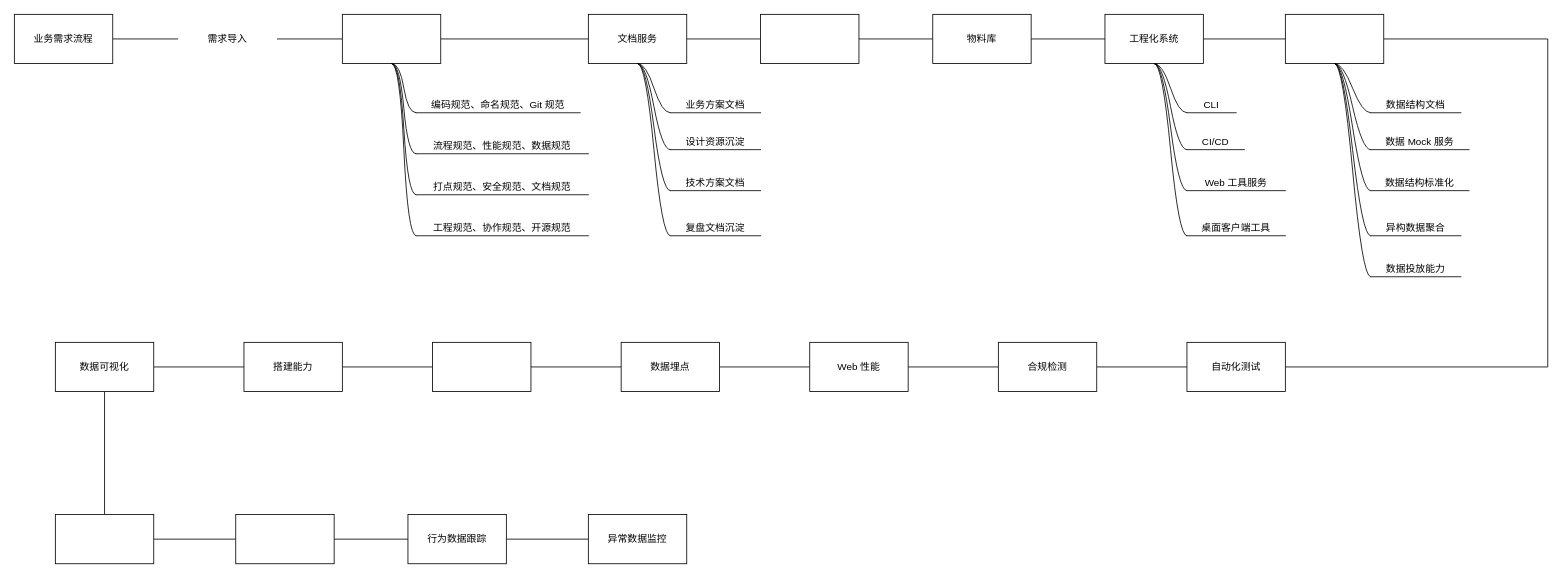
Image size: 1563x578. Some labels were removed from this diagram. Here are the shapes that lost their labels. From the top down, the centre of each, then its label:
At point 391,39: "规范制度".
At point 809,39: "基础框架".
At point 1334,39: "前后端协同".
At point 481,367: "构建部署".
At point 104,539: "数据计算中心".
At point 284,539: "性能数据跟踪".
